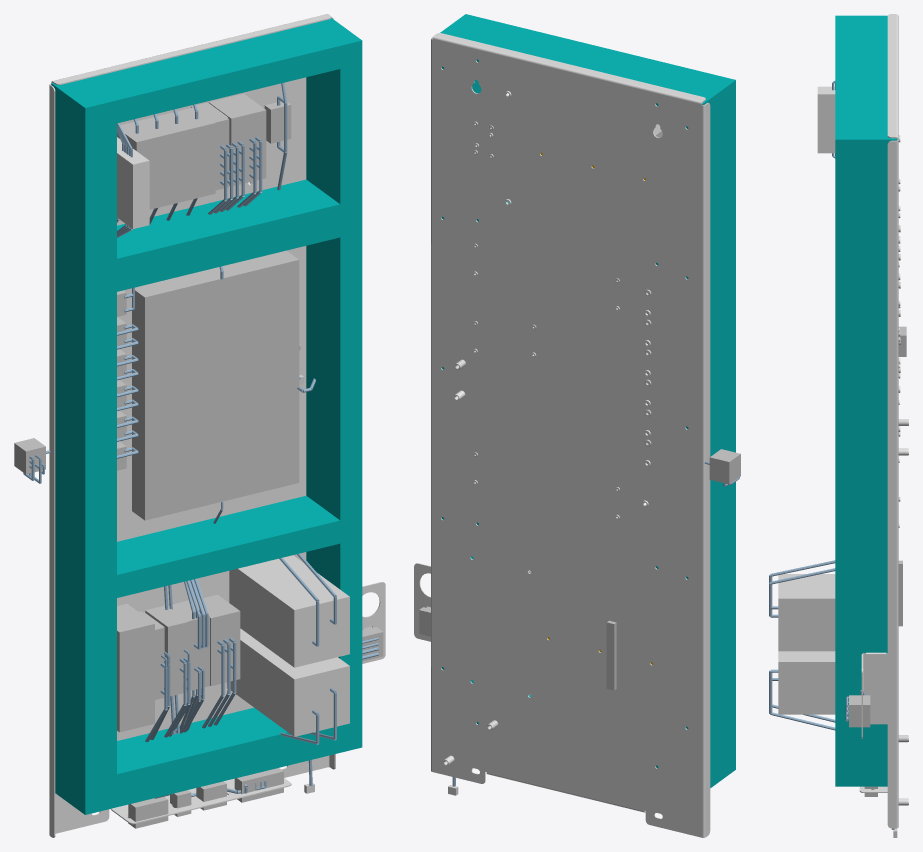
File: M408Z01427AA_cableado.glb
The picture shows the model from 3 angles, left to right: view 1: azimuth 30°, elevation 25°; view 2: azimuth 150°, elevation 25°; view 3: azimuth 270°, elevation 25°; orthographic projection. The views are drawn at different scales.
Visible parts, largest first — view 1: BRep_1 (×28); view 2: BRep_1 (×5); view 3: BRep_1 (×11).
Boxes of the visible parts, left/top/right/bottom form: BRep_1 (×28): left=14, top=14, right=385, bottom=837; BRep_1 (×5): left=414, top=14, right=740, bottom=837; BRep_1 (×11): left=769, top=14, right=902, bottom=828.
Bounding box in the file's own units: 0.4722 × 1 × 0.18.
